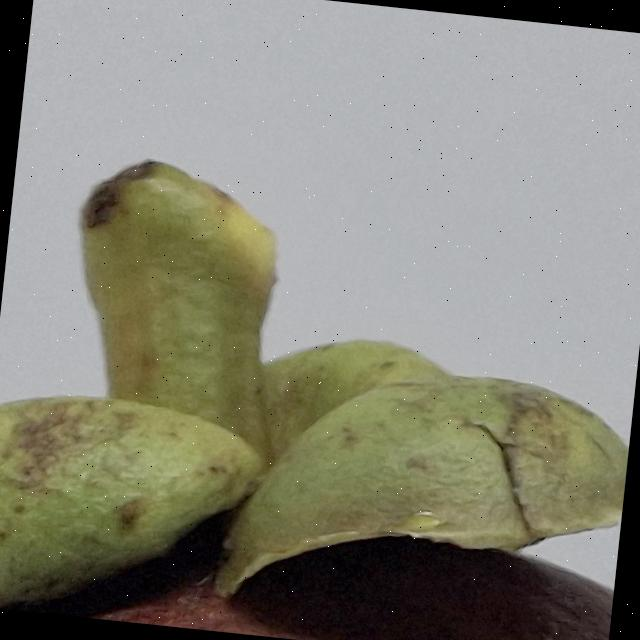mangosteen: (0, 18, 640, 640)
